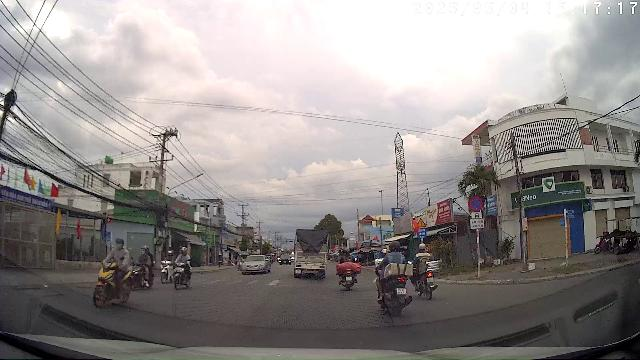130-cam-dung-va-do-xe: (468, 196, 484, 212)
